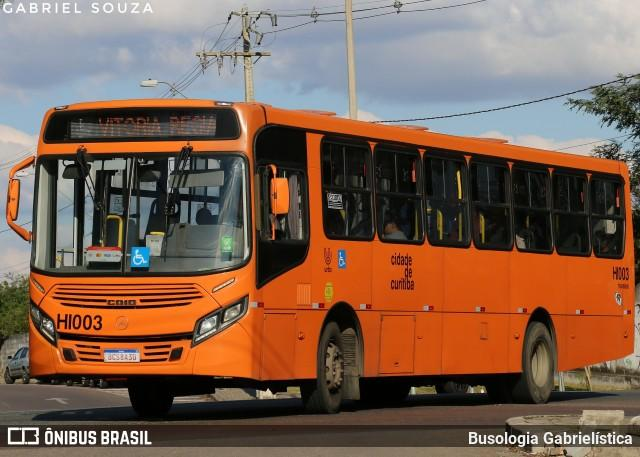VITORIA REGIA: (96, 113, 224, 141)
